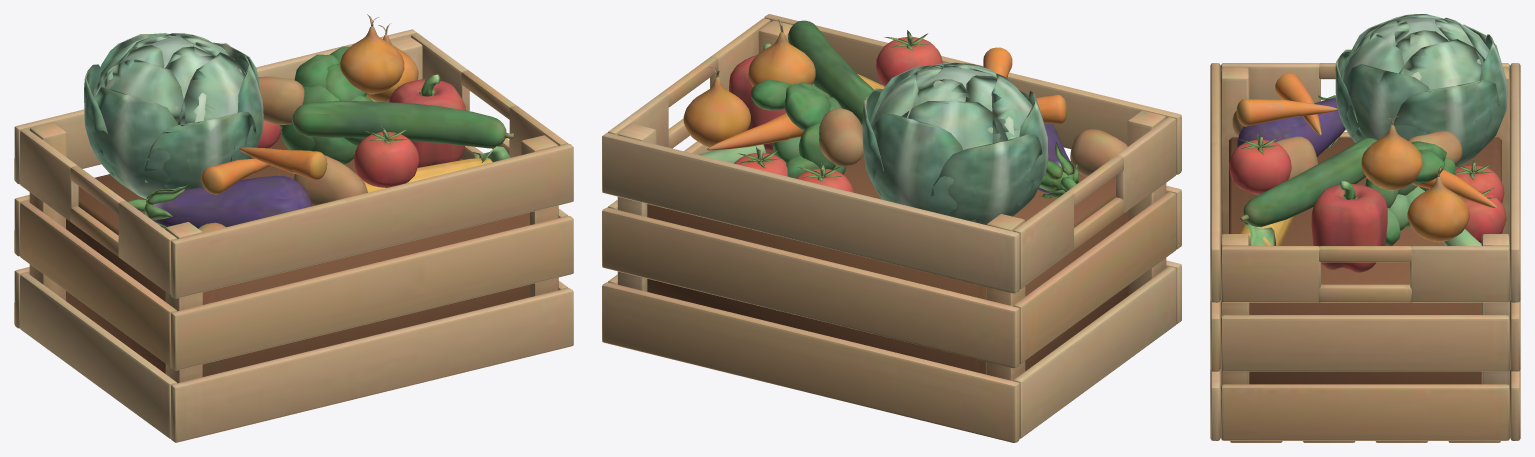
The model's file is vegetable-crate.glb.
The picture shows the model from 3 angles, left to right: view 1: azimuth 30°, elevation 25°; view 2: azimuth 150°, elevation 25°; view 3: azimuth 270°, elevation 25°; orthographic projection. The views are drawn at different scales.
Parts seen in each view (by area): view 1: vegetable-crate_body; view 2: vegetable-crate_body; view 3: vegetable-crate_body.
Boxes of the visible parts, box(x1,y1,x2,y2) form: vegetable-crate_body: box(14, 14, 573, 442); vegetable-crate_body: box(602, 14, 1181, 442); vegetable-crate_body: box(1210, 14, 1520, 442).
Bounding box in the file's own units: 0.5 × 0.3588 × 0.35.
1 material, 1 textured.
